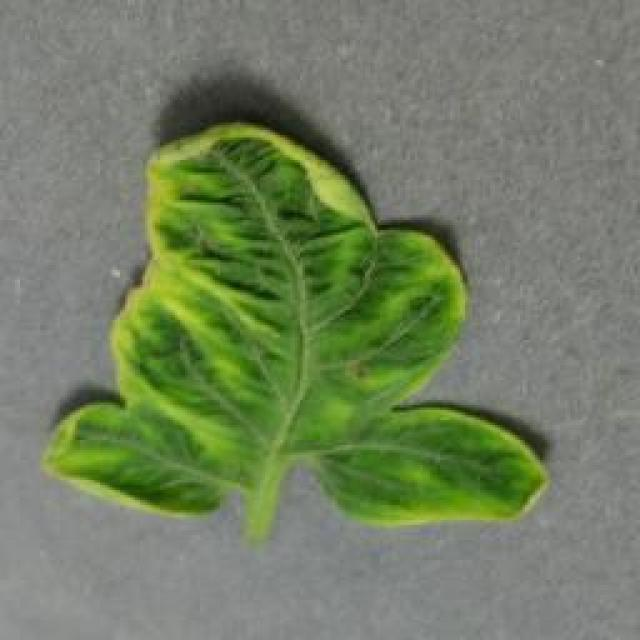Tom_Yellow_Leaf_Curl_Virus: (89, 146, 446, 480)
